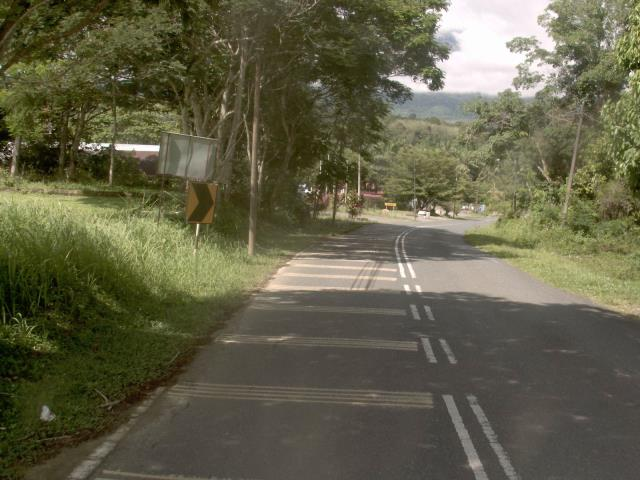traffic_sign: (179, 174, 226, 232)
